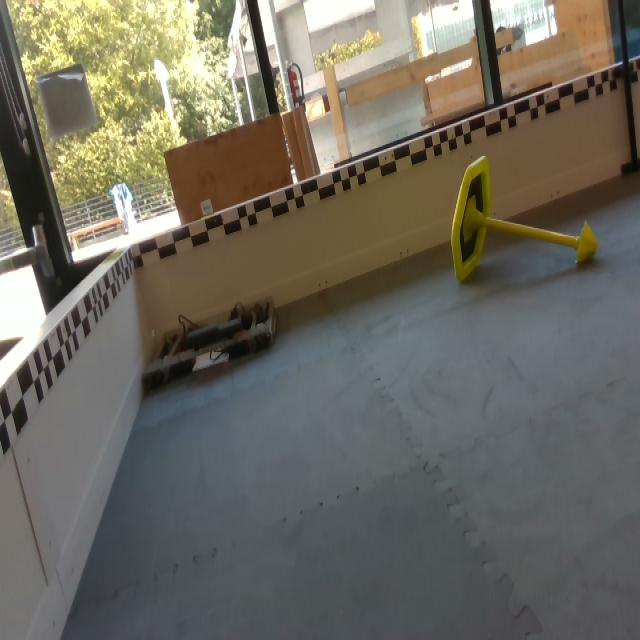Mobile-Goal: (449, 157, 597, 285)
Yellow-Stake-Head: (576, 221, 598, 263)
